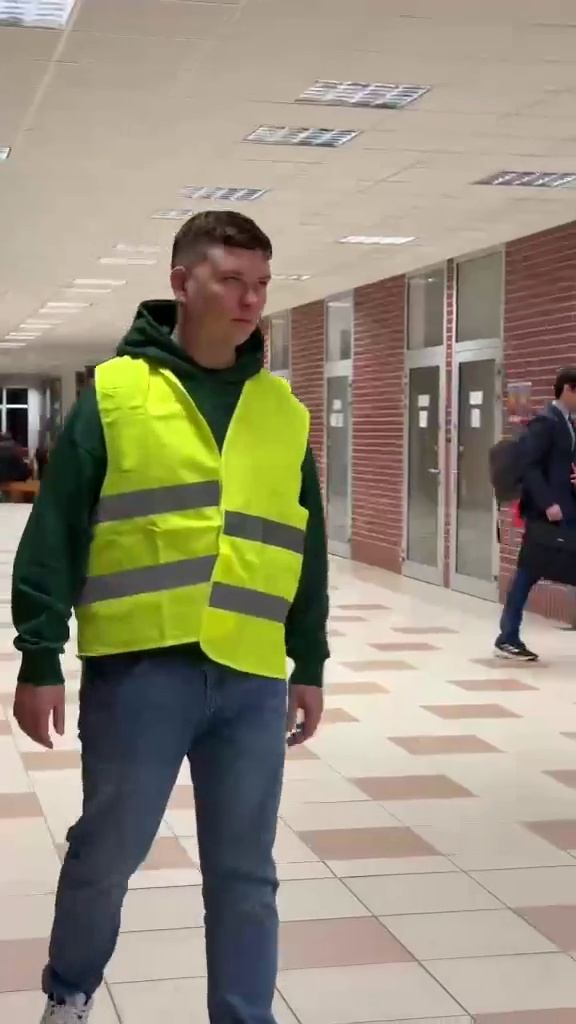no vest: (489, 363, 576, 667)
vest: (21, 213, 314, 1003)
